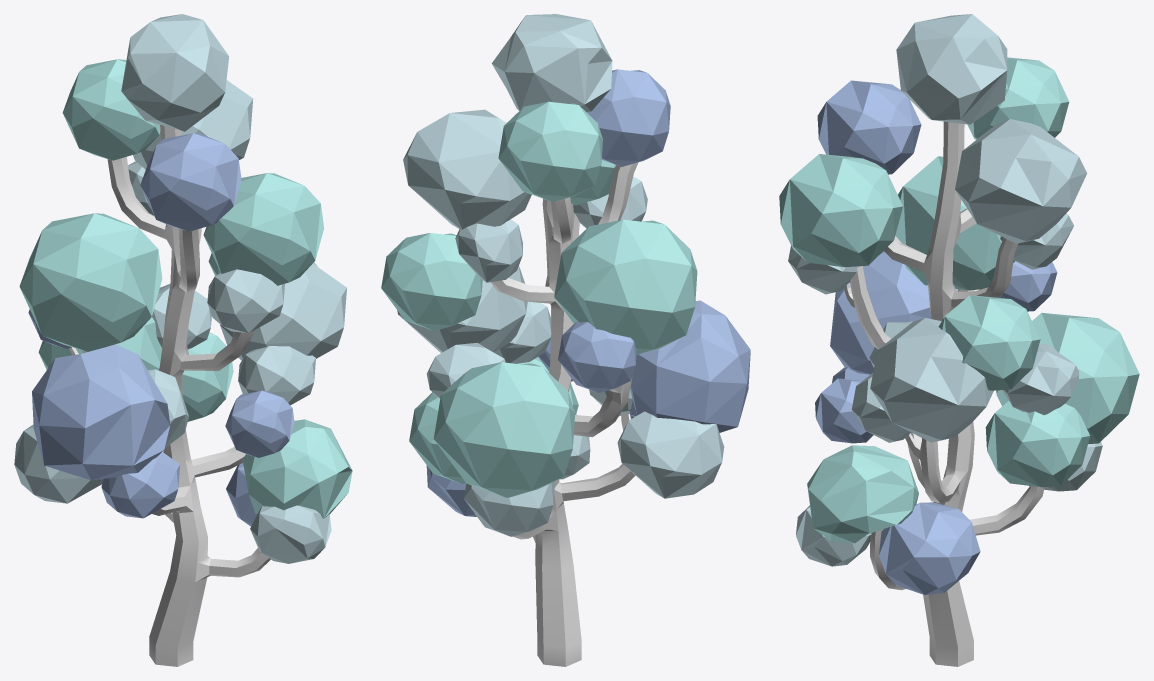
Rendered from tree4_Blue.fbx.
The picture shows the model from 3 angles, left to right: view 1: azimuth 30°, elevation 25°; view 2: azimuth 150°, elevation 25°; view 3: azimuth 270°, elevation 25°; orthographic projection.
Visible parts, largest first — view 1: pCylinder75, Leaves14, Leaves6, pCube20, Leaves12, Leaves18, Leaves9, Leaves19, pCube11, pCube17, Leaves11, Leaves13 (+10 smaller); view 2: Leaves7, pCylinder75, Leaves14, Leaves6, pCube14, pCube20, Leaves19, Leaves17, pCube18, Leaves18, Leaves15, pCube11 (+9 smaller); view 3: pCylinder75, pCube14, Leaves12, pCube11, pCube20, Leaves9, Leaves7, Leaves18, Leaves10, Leaves8, Leaves17, Leaves6 (+10 smaller).
Boxes of the visible parts, box(x1,y1,x2,y2) form: pCylinder75: box(69, 125, 270, 666); Leaves14: box(19, 213, 162, 351); Leaves6: box(32, 344, 170, 480); pCube20: box(121, 14, 229, 131); Leaves12: box(203, 173, 324, 285); Leaves18: box(140, 133, 241, 231); Leaves9: box(242, 419, 352, 518); Leaves19: box(62, 59, 160, 160); pCube11: box(220, 262, 346, 360); pCube17: box(207, 269, 284, 333); Leaves11: box(250, 505, 331, 563); Leaves13: box(225, 390, 294, 457); Leaves7: box(433, 362, 575, 497); pCylinder75: box(490, 162, 638, 666); Leaves14: box(554, 219, 697, 354); Leaves6: box(630, 300, 750, 432); pCube14: box(403, 109, 531, 229); pCube20: box(491, 14, 612, 112); Leaves19: box(498, 101, 602, 201); Leaves17: box(381, 233, 482, 330); pCube18: box(617, 411, 724, 498); Leaves18: box(587, 69, 670, 166); Leaves15: box(558, 321, 636, 392); pCube11: box(397, 266, 527, 352); pCylinder75: box(844, 121, 1043, 666); pCube14: box(955, 119, 1087, 243); Leaves12: box(779, 154, 902, 267); pCube11: box(870, 318, 993, 442); pCube20: box(896, 14, 1007, 124); Leaves9: box(807, 445, 918, 543); Leaves7: box(996, 312, 1139, 443); Leaves18: box(817, 80, 921, 174); Leaves10: box(879, 502, 980, 594); Leaves8: box(985, 401, 1089, 487); Leaves17: box(938, 295, 1040, 390); Leaves6: box(830, 251, 957, 374).
Size of the model in its own units: 10.55 by 19.82 by 10.14.
